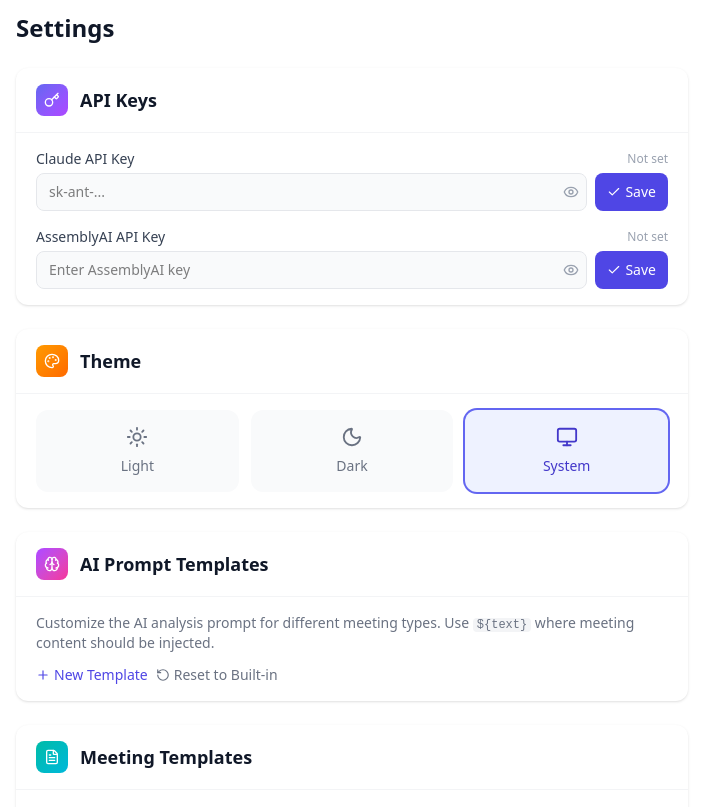
Test case: Settings & Export › SettingsPage › AssemblyAI API key save and status update
Check: the heading "Settings" is shown, box [16,12,114,44]
Type "assembly-test-key-456" into the password field named "AssemblyAI API key" at (312, 270), box [36,251,587,289]
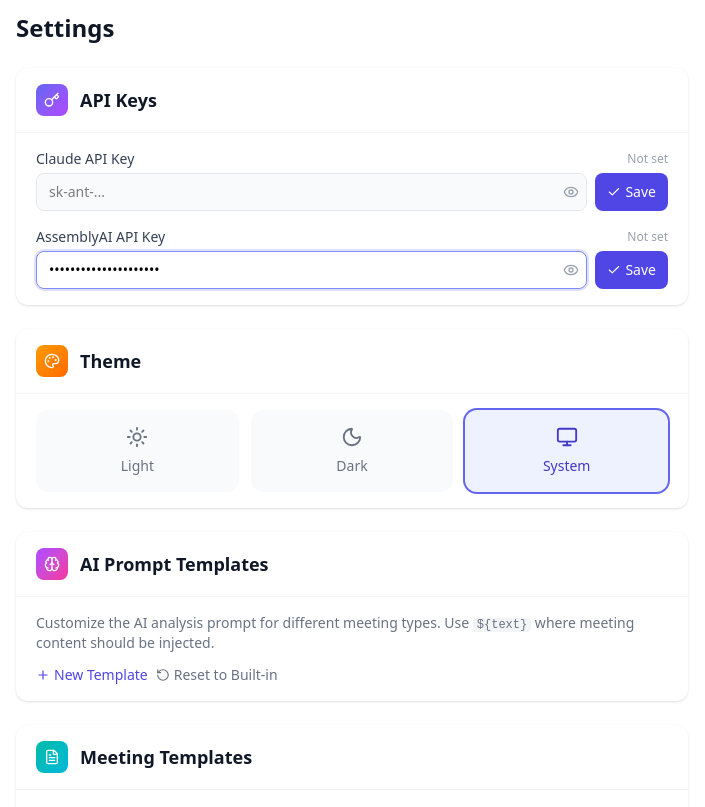
Second "Save" button
Click the 2nd button "Save" at (632, 270), box [595,251,668,289]
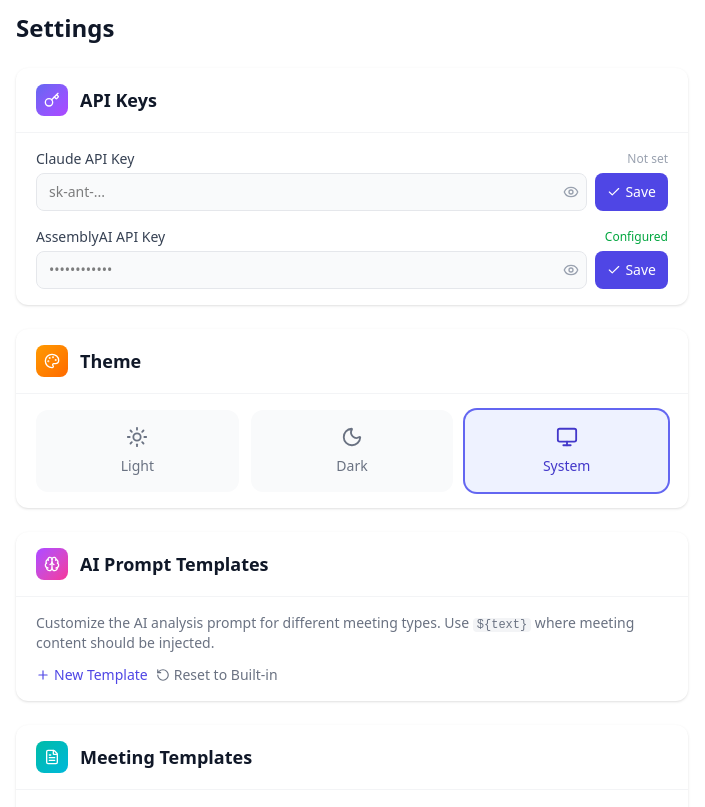
Check: the text with test id "assembly-key-status" reads "Configured", box [605,228,668,245]
